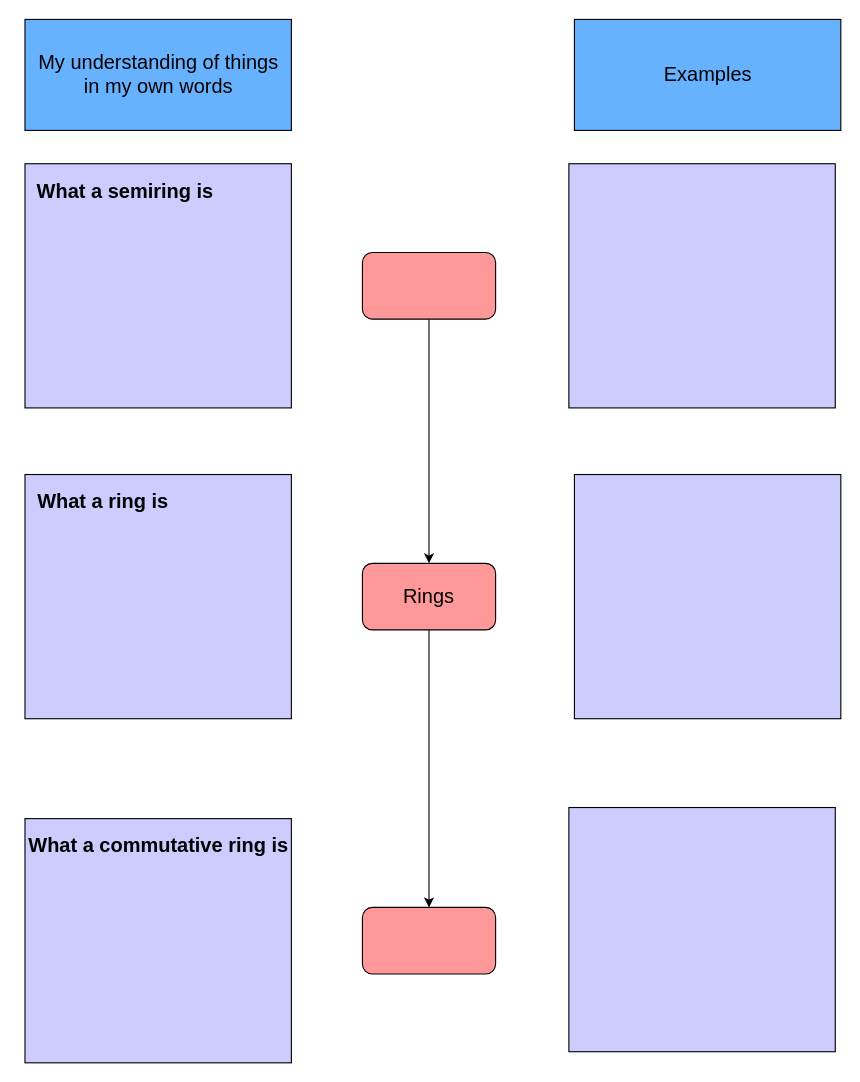
Image size: 860x1082. Some labels were removed from this diagram. The shapes that lost their labels are listed below. From the top down, each one's box as (x1, y1, x2, y2) in pixels, then its label:
(361, 251, 496, 319): Semiring
(361, 906, 496, 974): Commutative Rings
